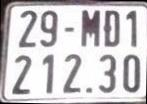-: (64, 26, 75, 33)
.: (86, 86, 93, 93)
0: (122, 55, 141, 93)
1: (125, 9, 138, 48), (41, 54, 54, 93)
2: (11, 54, 32, 95), (62, 52, 83, 93), (18, 11, 37, 49)
3: (99, 54, 116, 93)
9: (39, 10, 58, 47)
D: (103, 10, 120, 48)
M: (81, 9, 100, 47)
